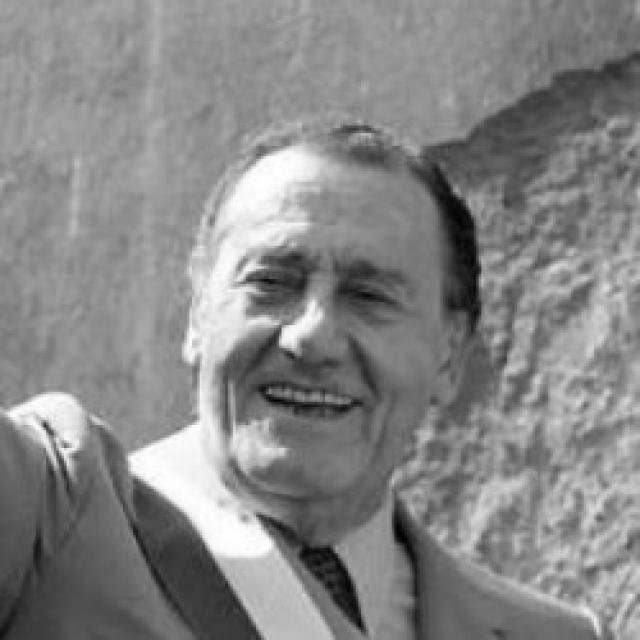real: (188, 126, 461, 494), (236, 250, 408, 318)
